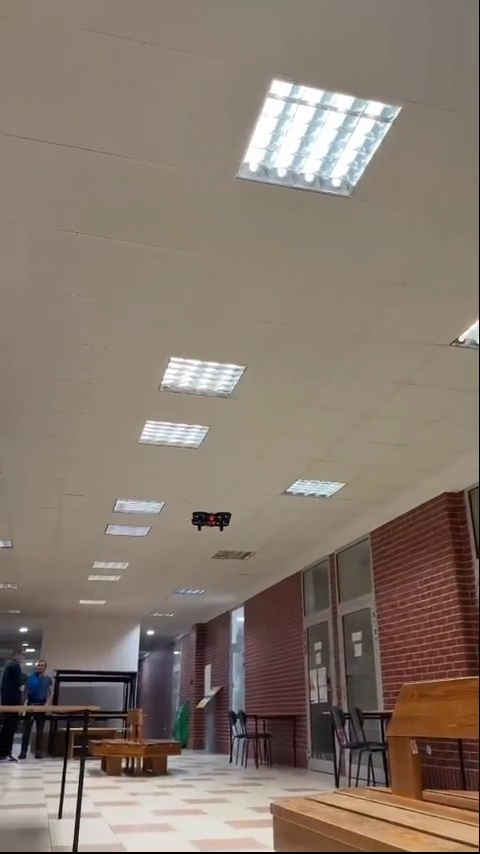drone: (187, 510, 236, 533)
no vest: (0, 649, 26, 748), (27, 654, 51, 706)
